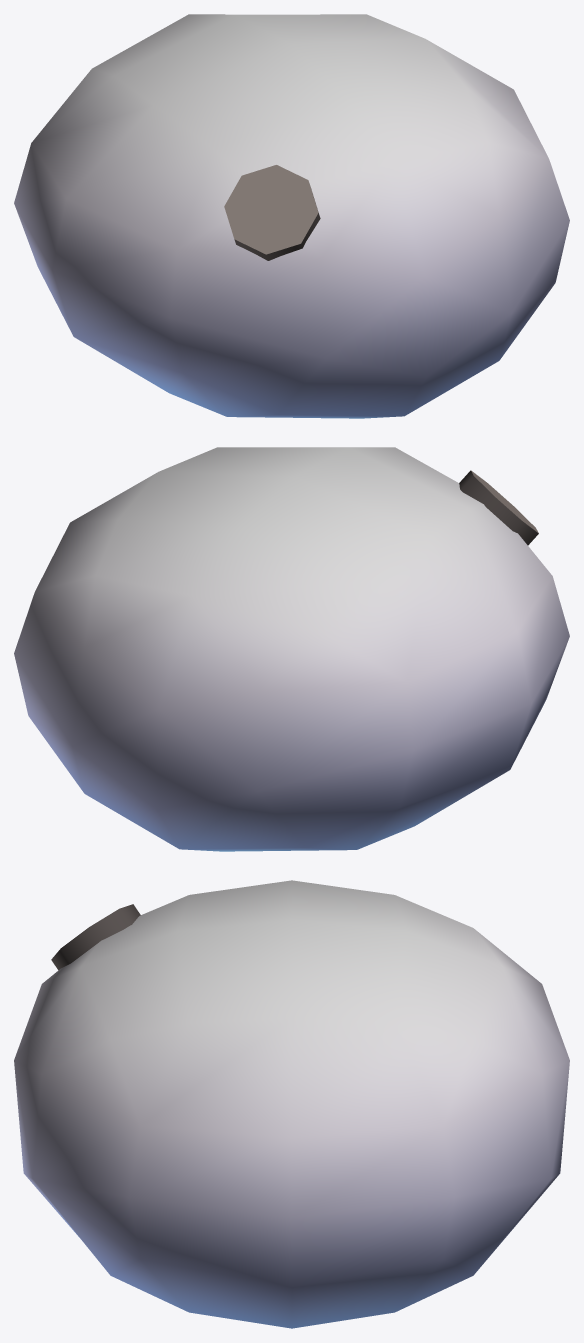
File: IglooSnowmanBase.glb
3 views of the same model, one above another, from view 1: azimuth 30°, elevation 25°; view 2: azimuth 150°, elevation 25°; view 3: azimuth 270°, elevation 25° (orthographic). The views are drawn at different scales.
Parts seen in each view (by area): view 1: IglooSnowmanBase; view 2: IglooSnowmanBase; view 3: IglooSnowmanBase.
Part boxes in pixels (box(x1,y1,x2,y2)): IglooSnowmanBase: box(14, 14, 569, 418); IglooSnowmanBase: box(14, 447, 569, 851); IglooSnowmanBase: box(14, 880, 569, 1328).
Bounding box in the file's own units: 0.4752 × 0.3319 × 0.4593.
